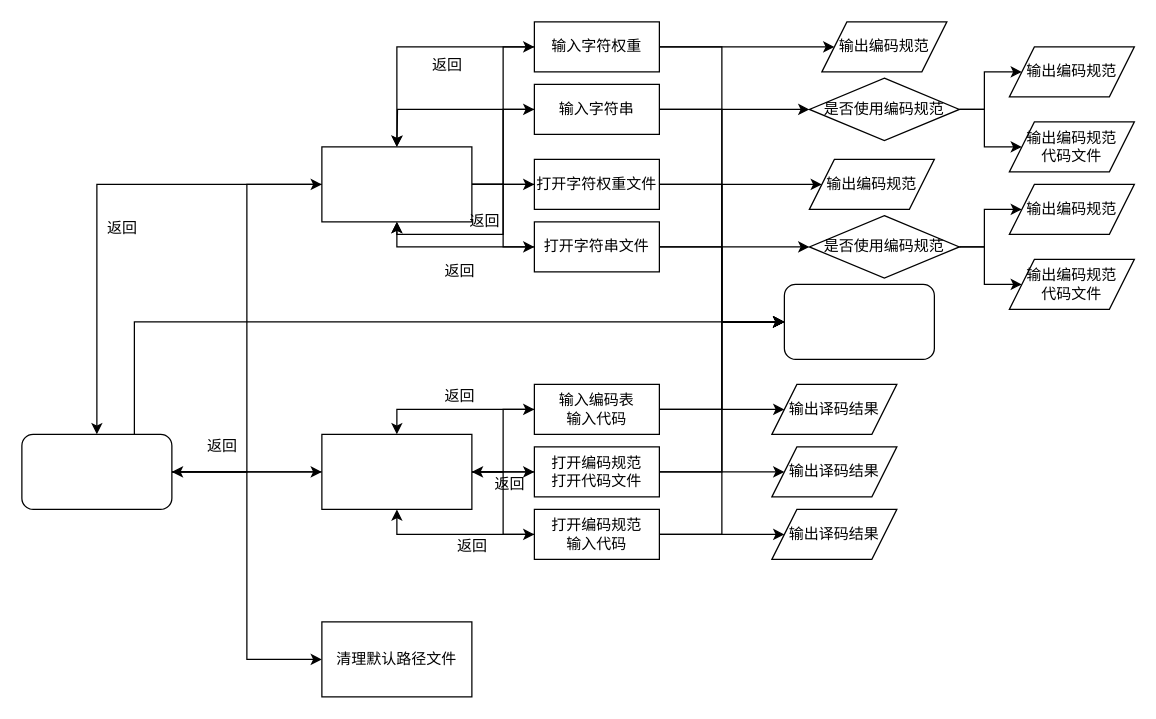
This 1156x719 diagram has some shape labels left out. Each missing label, with the centre of its shape:
打开程序: [96,471]
编码: [396,184]
译码: [396,471]
退出: [858,321]
